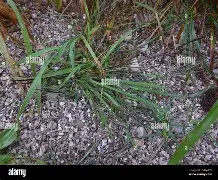weed: (22, 34, 168, 110)
